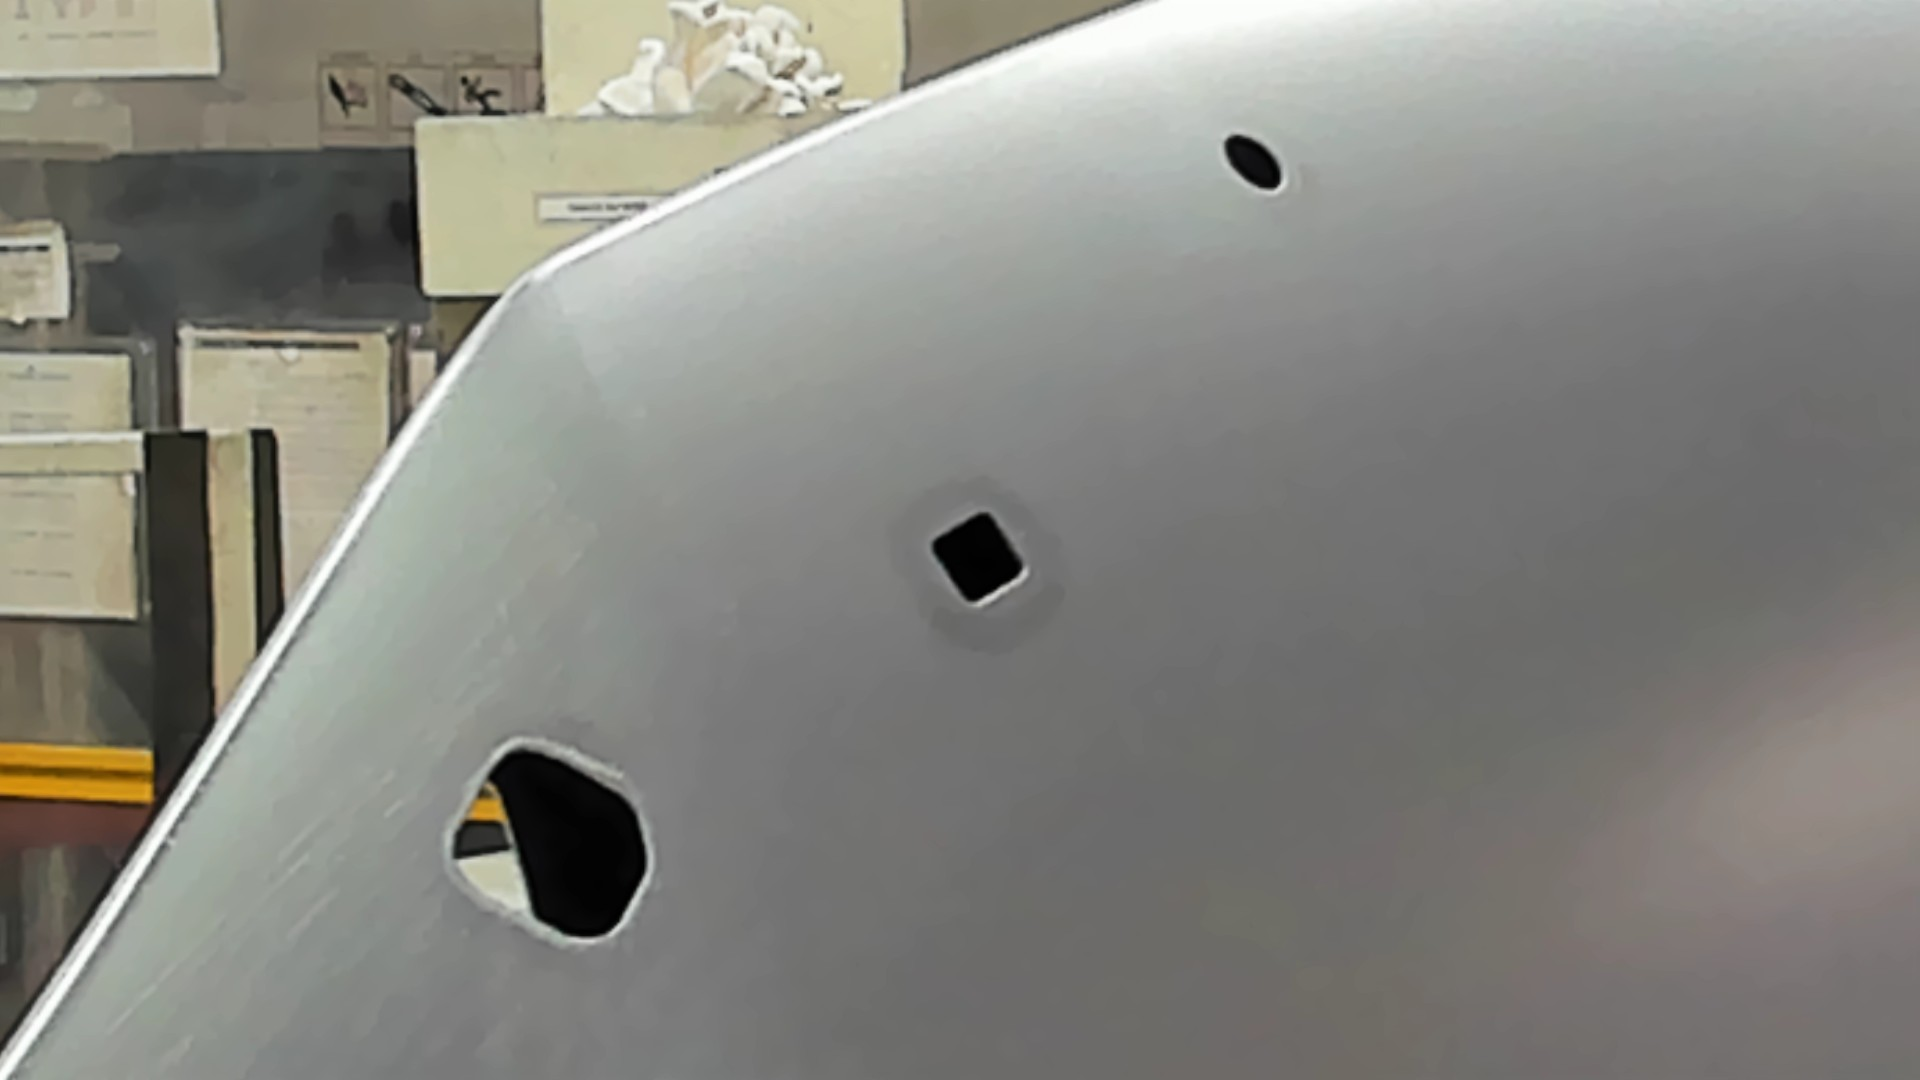capo: (1040, 196, 1920, 1080)
chico: (1218, 129, 1288, 196)
grande: (440, 736, 659, 953)
mediano: (923, 506, 1033, 613)
